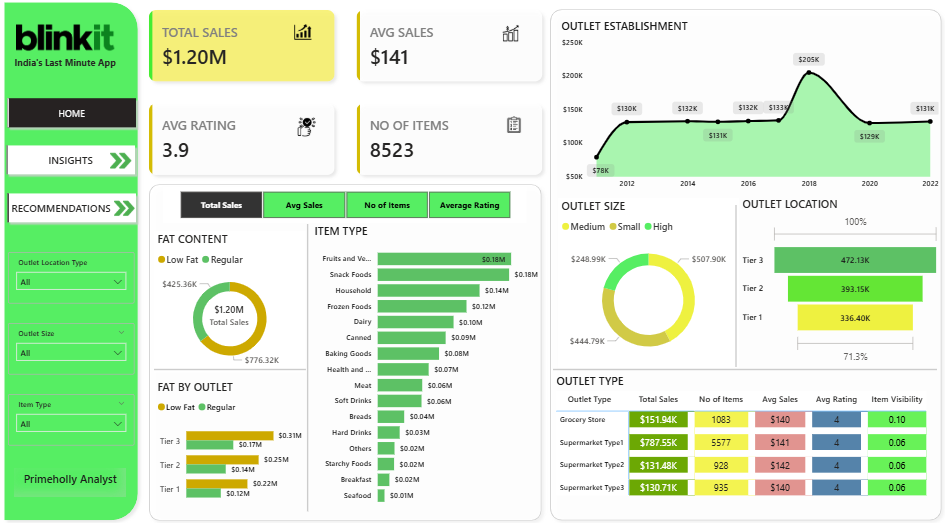

The page's visual inventory and layout, read from the dashboard file:
{"tool":"powerbi","page":{"name":"HOME","canvas":[1400,800],"ordinal":1},"visuals":[{"type":"shape","box":[12.7,9.1,212.5,771.7],"z":0},{"type":"image","box":[39.1,12,143,114.4],"z":1000},{"type":"textbox","box":[31.6,91.8,171.6,31.6],"z":2000},{"type":"cardVisual","fields":{"Data":["BlinkIT Grocery Data.Total Sales","BlinkIT Grocery Data.Avg Sales","BlinkIT Grocery Data.Average Rating","BlinkIT Grocery Data.No of Items"]},"box":[203.4,0,631.9,299.6],"z":3000},{"type":"shape","box":[224.3,274,588.6,507.3],"z":4000},{"type":"donutChart","title":"FAT CONTENT","fields":{"Y":["BlinkIT Grocery Data.Total Sales"],"Category":["BlinkIT Grocery Data.Item Fat Content"]},"box":[240.7,350.9,220.5,205.8],"z":5000},{"type":"slicer","fields":{"Values":["Metrics.Metrics"]},"box":[253.1,286.5,529.5,52.4],"z":6000},{"type":"cardVisual","fields":{"Data":["BlinkIT Grocery Data.Total Sales","BlinkIT Grocery Data.Total Sales"]},"box":[281.1,418.9,137.8,108.4],"z":7000},{"type":"clusteredBarChart","title":"FAT BY OUTLET","fields":{"Y":["BlinkIT Grocery Data.Total Sales"],"Category":["BlinkIT Grocery Data.Outlet Location Type"],"Series":["BlinkIT Grocery Data.Item Fat Content"]},"box":[240.7,565.9,220.5,192.9],"z":8000},{"type":"shape","box":[240,528,221.1,48],"z":9000},{"type":"shape","box":[436.6,340.2,54.2,418.5],"z":10000},{"type":"barChart","title":"ITEM TYPE","fields":{"Y":["BlinkIT Grocery Data.Total Sales"],"Category":["BlinkIT Grocery Data.Item Type"]},"box":[468.4,338.9,338.9,420.4],"z":11000},{"type":"shape","box":[806.9,19.6,587.1,761.7],"z":12000},{"type":"lineChart","title":"OUTLET ESTABLISHMENT","fields":{"Category":["BlinkIT Grocery Data.Outlet Establishment Year"],"Y":["BlinkIT Grocery Data.Total Sales"]},"box":[827.6,40.7,558.5,258.9],"z":13000},{"type":"donutChart","title":"OUTLET SIZE","fields":{"Y":["BlinkIT Grocery Data.Total Sales"],"Category":["BlinkIT Grocery Data.Outlet Size"]},"box":[827.6,302.5,263.3,247.3],"z":14000},{"type":"shape","box":[1067.6,312.7,37.8,235.6],"z":15000},{"type":"funnel","title":"OUTLET LOCATION","fields":{"Y":["Sum(BlinkIT Grocery Data.Sales)"],"Category":["BlinkIT Grocery Data.Outlet Location Type"]},"box":[1090.9,299.6,296.7,248.7],"z":16000},{"type":"pivotTable","title":"OUTLET TYPE","fields":{"Rows":["BlinkIT Grocery Data.Outlet Type"],"Values":["BlinkIT Grocery Data.Total Sales","BlinkIT Grocery Data.No of Items","BlinkIT Grocery Data.Avg Sales","BlinkIT Grocery Data.Average Rating","Avg(BlinkIT Grocery Data.Item Visibility)"]},"box":[820.4,557,558.5,209.2],"z":17000},{"type":"shape","box":[820.4,538.2,558.5,27.6],"z":18000},{"type":"slicer","fields":{"Values":["BlinkIT Grocery Data.Outlet Location Type"]},"box":[27.1,380.9,183.7,75.3],"z":19000},{"type":"slicer","fields":{"Values":["BlinkIT Grocery Data.Outlet Size"]},"box":[27.1,484,183.7,75.3],"z":20000},{"type":"slicer","fields":{"Values":["BlinkIT Grocery Data.Item Type"]},"box":[27.1,587.1,183.7,75.3],"z":21000},{"type":"textbox","box":[36.3,695.5,163.4,41.8],"z":22000},{"type":"pageNavigator","box":[21.8,152.5,197.9,52.7],"z":23000},{"type":"pageNavigator","box":[20,221.5,197.9,52.7],"z":24000},{"type":"pageNavigator","box":[21.8,290.5,197.9,52.7],"z":25000},{"type":"image","box":[176.1,232.4,30.9,30.9],"z":26000},{"type":"image","box":[181.6,303.2,30,30.9],"z":27000}]}

Visuals, with their boxes on the page's 1400x800 design canvas (x1, y1, x2, y2). These are canvas units, not pixel positions in the 945x523 screenshot, which may show the page scaled, cropped or inside an application window:
shape: [13,9,225,781]
image: [39,12,182,126]
textbox: [32,92,203,123]
cardVisual - BlinkIT Grocery Data.Total Sales x BlinkIT Grocery Data.Avg Sales: [203,0,835,300]
shape: [224,274,813,781]
"FAT CONTENT" donutChart: [241,351,461,557]
slicer - Metrics.Metrics: [253,286,783,339]
cardVisual - BlinkIT Grocery Data.Total Sales x BlinkIT Grocery Data.Total Sales: [281,419,419,527]
"FAT BY OUTLET" clusteredBarChart: [241,566,461,759]
shape: [240,528,461,576]
shape: [437,340,491,759]
"ITEM TYPE" barChart: [468,339,807,759]
shape: [807,20,1394,781]
"OUTLET ESTABLISHMENT" lineChart: [828,41,1386,300]
"OUTLET SIZE" donutChart: [828,302,1091,550]
shape: [1068,313,1105,548]
"OUTLET LOCATION" funnel: [1091,300,1388,548]
"OUTLET TYPE" pivotTable: [820,557,1379,766]
shape: [820,538,1379,566]
slicer - BlinkIT Grocery Data.Outlet Location Type: [27,381,211,456]
slicer - BlinkIT Grocery Data.Outlet Size: [27,484,211,559]
slicer - BlinkIT Grocery Data.Item Type: [27,587,211,662]
textbox: [36,696,200,737]
pageNavigator: [22,152,220,205]
pageNavigator: [20,222,218,274]
pageNavigator: [22,290,220,343]
image: [176,232,207,263]
image: [182,303,212,334]
